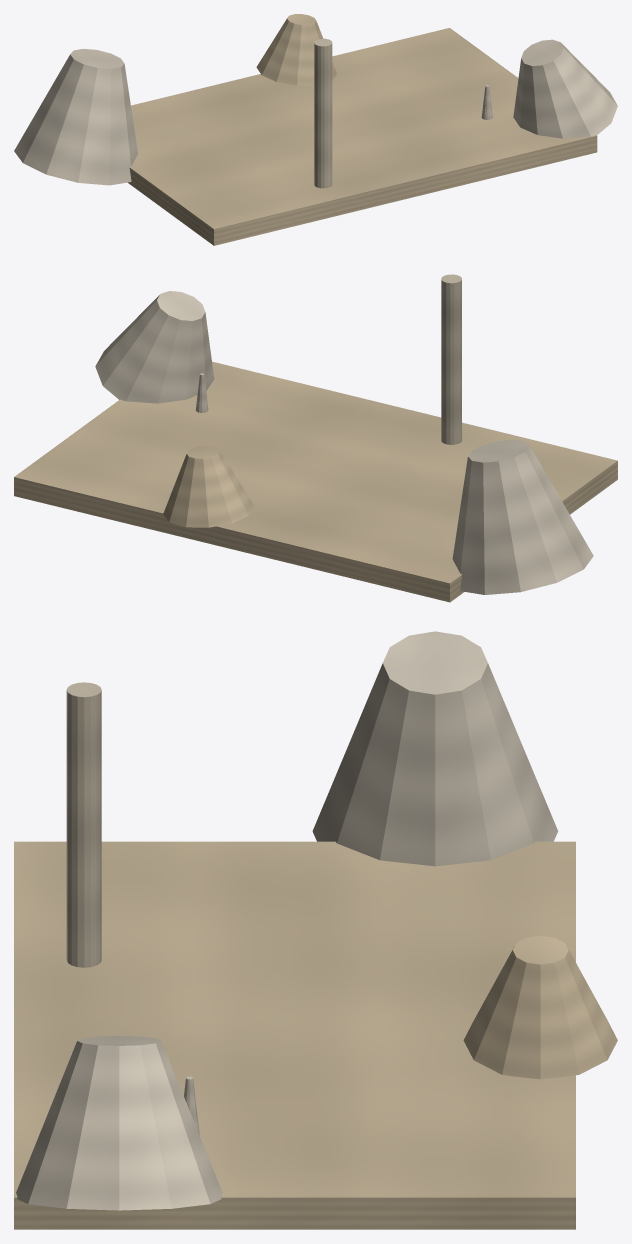
The model's file is howling-sprawl.glb.
The picture shows the model from 3 angles, top to bottom: view 1: azimuth 30°, elevation 25°; view 2: azimuth 150°, elevation 25°; view 3: azimuth 270°, elevation 25°; orthographic projection. The views are drawn at different scales.
Visible parts, largest first — view 1: sprawl-cracked-ground, sprawl-windrock-0, sprawl-windrock-1, sprawl-windrock-2, sprawl-flank-marker; view 2: sprawl-cracked-ground, sprawl-windrock-0, sprawl-windrock-1, sprawl-windrock-2, sprawl-flank-marker; view 3: sprawl-cracked-ground, sprawl-windrock-0, sprawl-windrock-1, sprawl-windrock-2, sprawl-flank-marker.
Part boxes in pixels (<box>): sprawl-cracked-ground: <box>128,28,597,245</box>; sprawl-windrock-0: <box>14,49,137,185</box>; sprawl-windrock-1: <box>513,39,617,138</box>; sprawl-windrock-2: <box>256,14,336,85</box>; sprawl-flank-marker: <box>314,38,332,188</box>; sprawl-cracked-ground: <box>14,361,617,602</box>; sprawl-windrock-0: <box>452,439,593,594</box>; sprawl-windrock-1: <box>95,291,214,403</box>; sprawl-windrock-2: <box>163,446,254,527</box>; sprawl-flank-marker: <box>441,274,461,444</box>; sprawl-cracked-ground: <box>14,841,575,1229</box>; sprawl-windrock-0: <box>312,631,558,866</box>; sprawl-windrock-1: <box>16,1035,222,1210</box>; sprawl-windrock-2: <box>463,935,617,1079</box>; sprawl-flank-marker: <box>66,682,101,967</box>.
Size of the model in its own units: 3.16 by 0.9662 by 1.72.
Materials: 6 (6 with a texture image).
